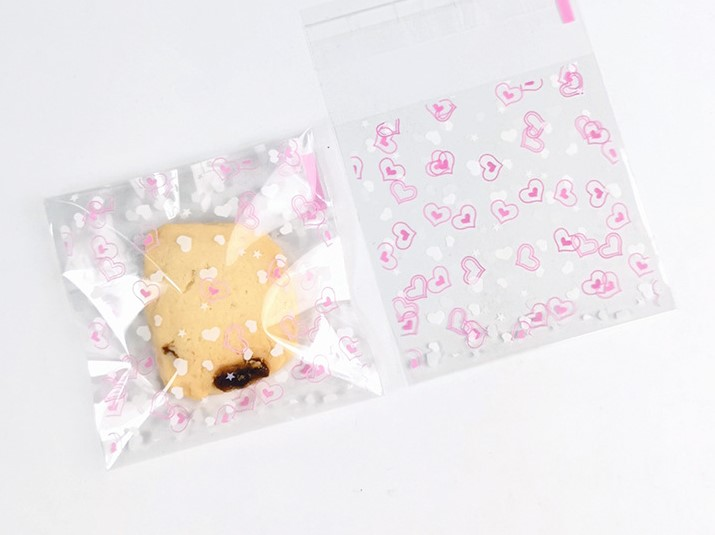Snack: (35, 123, 388, 468)
